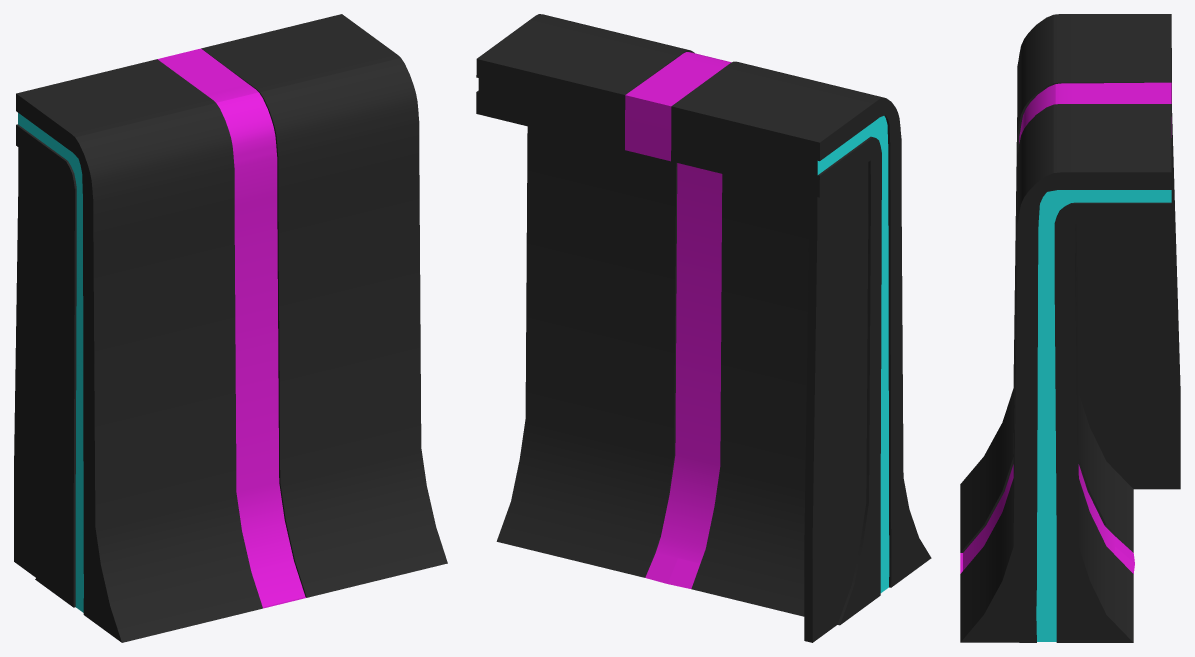
Rendered from low poly bench 1.fbx.
3 views of the same model, side by side, from view 1: azimuth 30°, elevation 25°; view 2: azimuth 150°, elevation 25°; view 3: azimuth 270°, elevation 25° (orthographic). The views are drawn at different scales.
Parts seen in each view (by area): view 1: Box034; view 2: Box034; view 3: Box034.
Part boxes in pixels (x1,y1,x2,y2): Box034: (14,14,447,642); Box034: (476,14,931,642); Box034: (960,14,1180,642).
Bounding box in the file's own units: 19.63 × 27.2 × 11.53.
